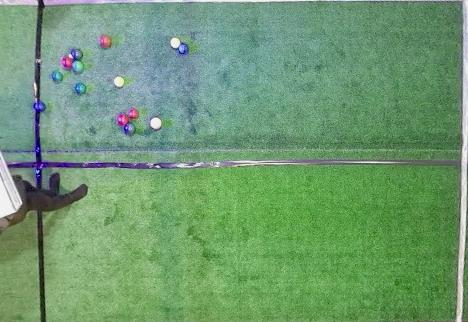blue: (33, 102, 46, 112), (179, 43, 188, 54)
green: (72, 61, 84, 73), (124, 123, 136, 134), (71, 49, 83, 59), (75, 83, 86, 93), (52, 71, 63, 81)
red: (100, 35, 112, 48), (62, 57, 73, 68), (118, 114, 129, 125), (150, 118, 161, 129), (128, 109, 139, 119)
vline: (1, 211, 48, 321), (1, 1, 44, 102), (454, 1, 467, 321), (1, 111, 42, 186)
white: (69, 54, 73, 58)
yellow: (114, 76, 124, 87), (170, 37, 180, 48)
